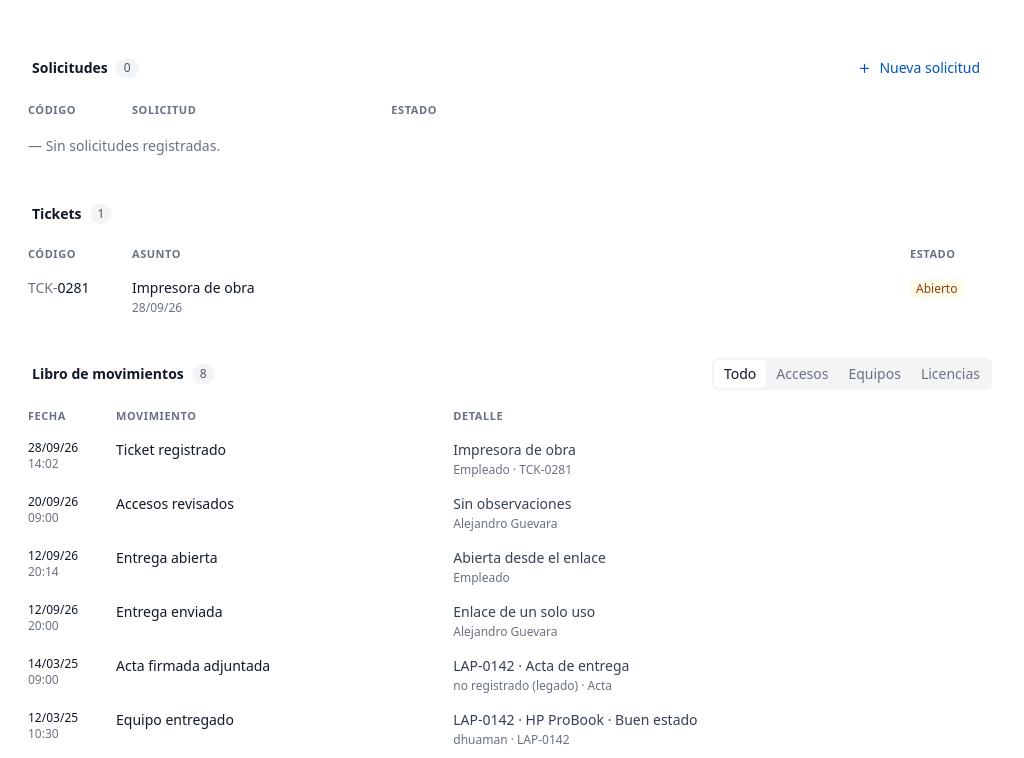
Test: Expediente — libro de movimientos › un filtro sin filas deja UNA fila de libro en gris, no una ilustración
(page scrolled)
Click the button "Licencias" at (950, 374), box [911, 360, 990, 388]
(page scrolled)
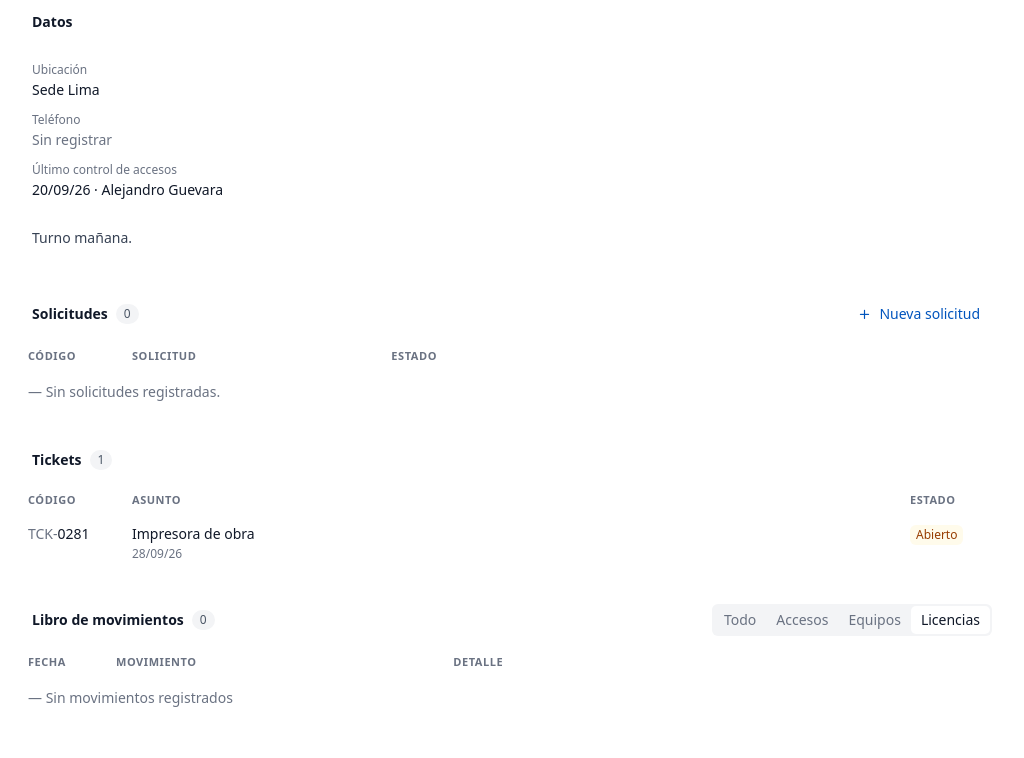
Result: the row "— Sin movimientos registrados" is shown at [16, 678, 1008, 718]
